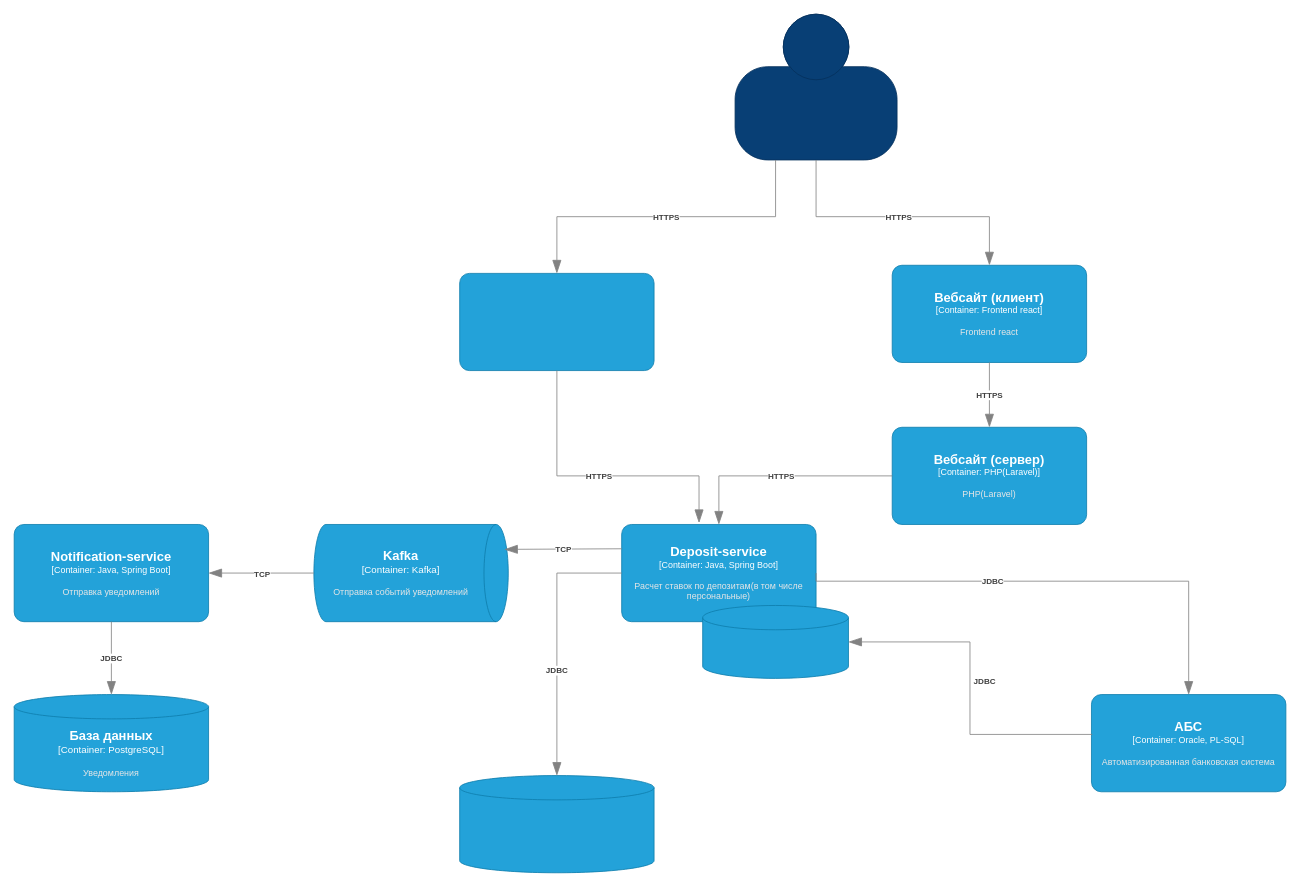
Image size: 1300x887. Some labels were removed from this diagram. Each missing label, with the centre of its shape:
База данных [Container: PostgreSQL] Заявки на депозиты, ставки по депозитам: the point at 556,824
Интернет банк (монолит) [Container: ASP.NET MVC 4.5 ] ASP.NET MVC 4.5: the point at 556,322
Клиент [Person] Клиент Банка: the point at 815,86
Кэш [Container: Redis] Кэш ставок по депозитам: the point at 775,641
